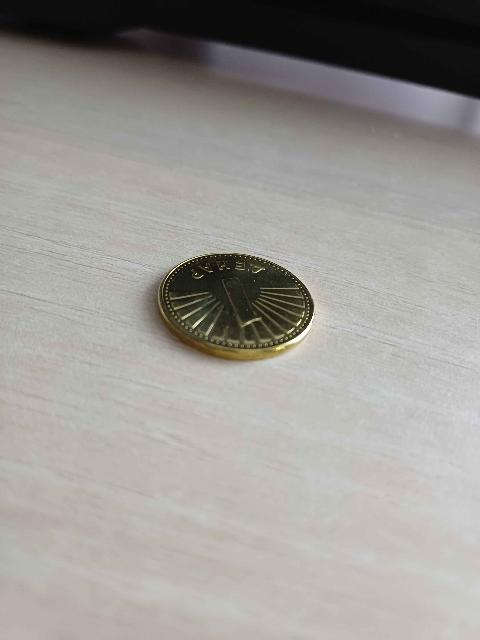1_coin: (159, 254, 314, 359)
